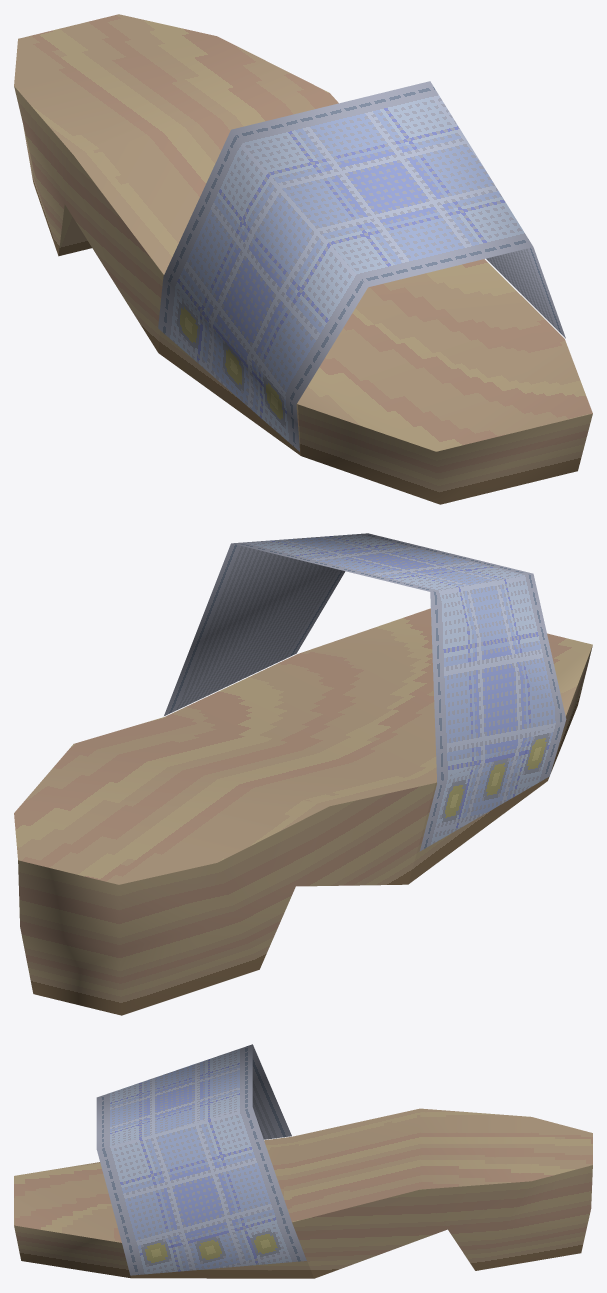
File: 019d_Sandal.glb
The picture shows the model from 3 angles, top to bottom: view 1: azimuth 30°, elevation 25°; view 2: azimuth 150°, elevation 25°; view 3: azimuth 270°, elevation 25°; orthographic projection. The views are drawn at different scales.
Visible parts, largest first — view 1: part_0; view 2: part_0; view 3: part_0.
Part boxes in pixels (<box>): part_0: <box>14,14,592,504</box>; part_0: <box>14,533,592,1015</box>; part_0: <box>14,1044,592,1278</box>.
Bounding box in the file's own units: 0.0967 × 0.0852 × 0.2734.
Materials: 1 (1 with a texture image).
